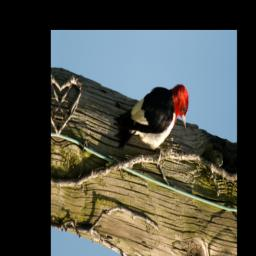Woodpecker: (111, 69, 190, 176)
